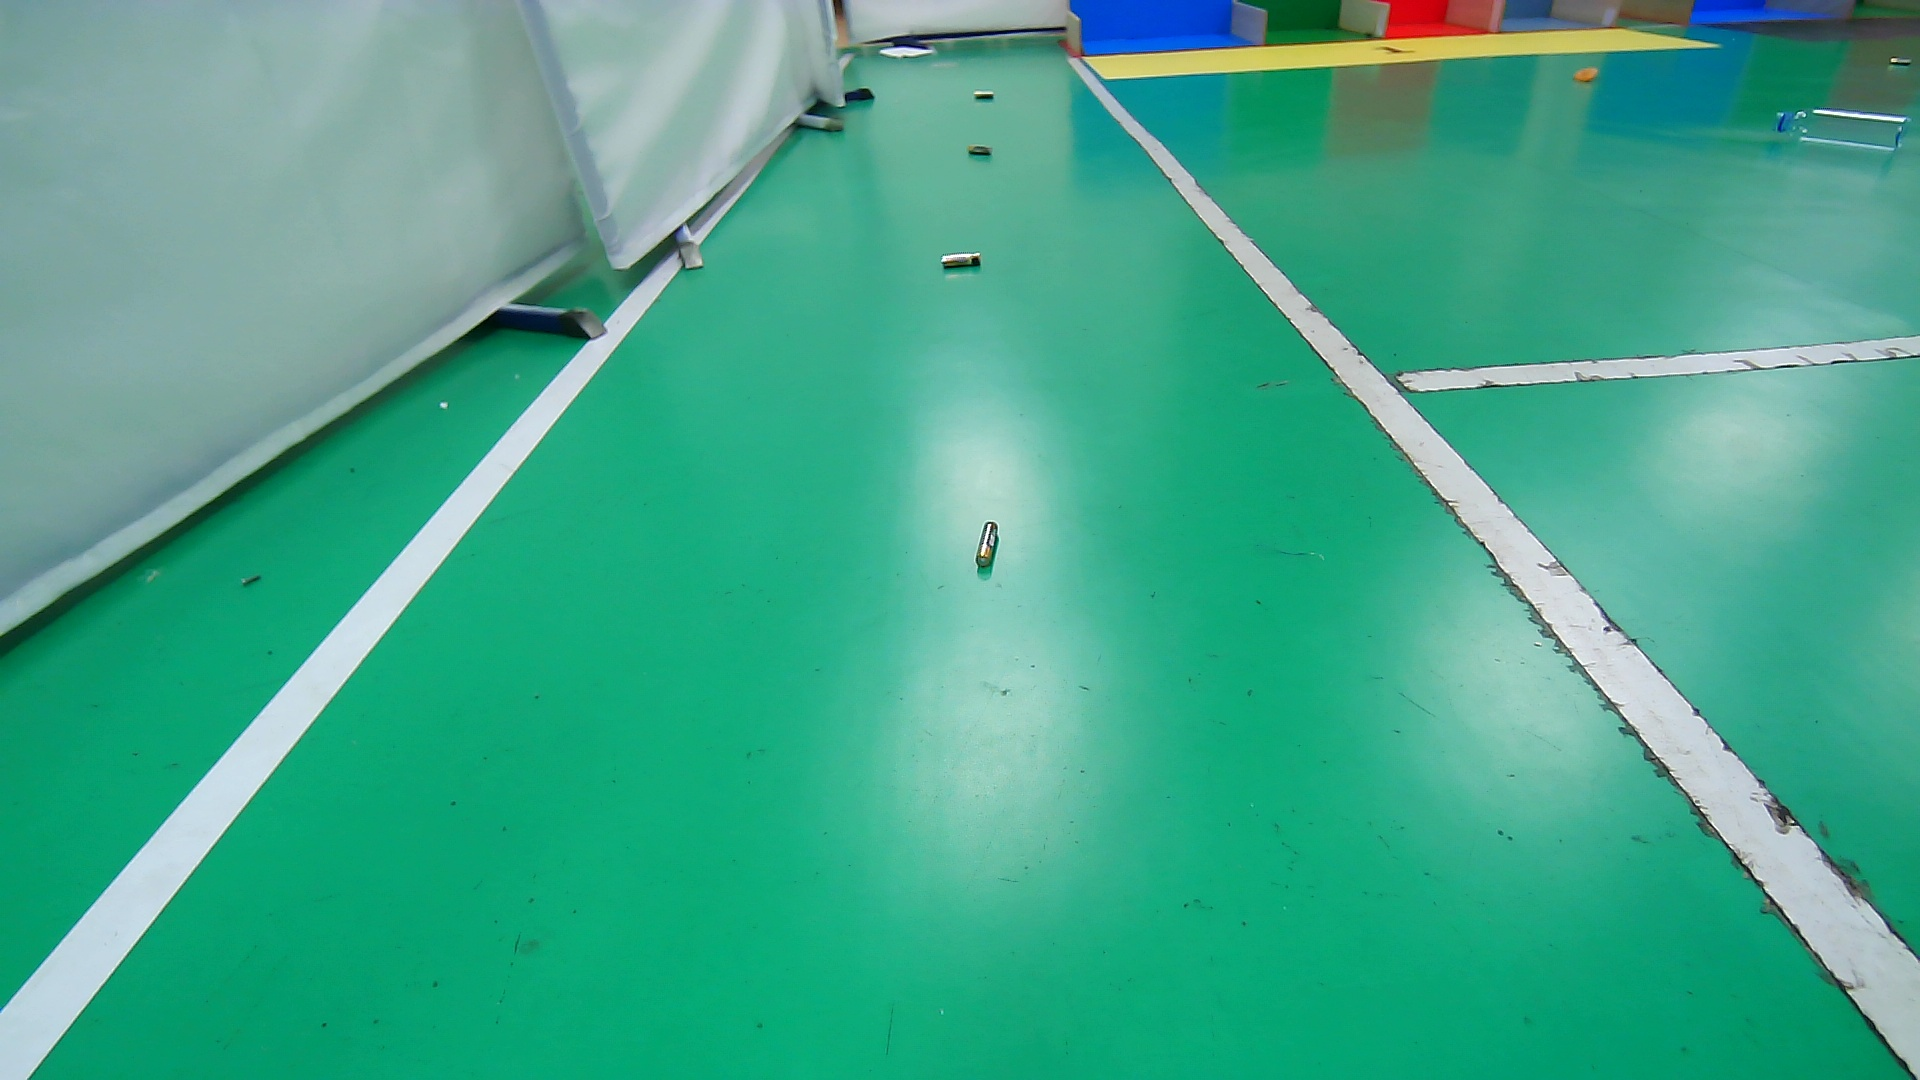battery: (963, 506, 1015, 591), (926, 237, 994, 287), (948, 132, 1013, 171), (960, 79, 1009, 112), (1880, 50, 1920, 74)
bottle: (1774, 103, 1916, 156)
orangepeel: (1564, 61, 1607, 88)
